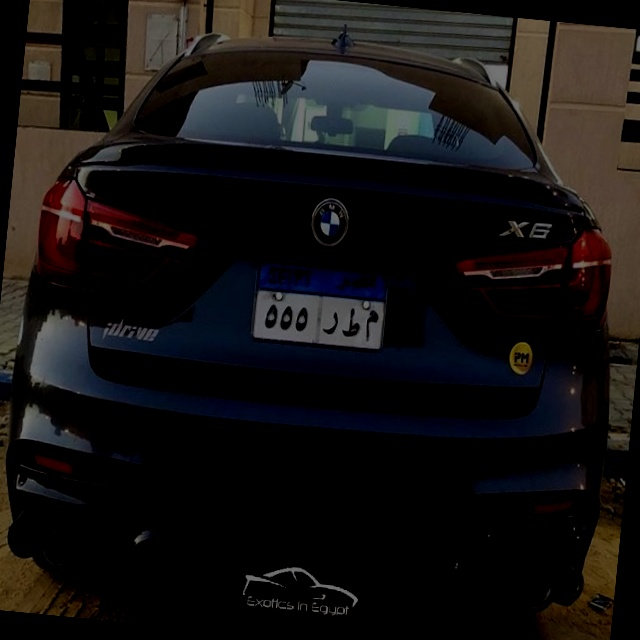License Plate: (247, 253, 392, 357)
